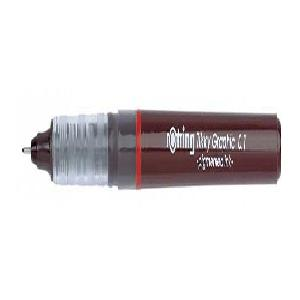pen: (13, 108, 288, 192)
